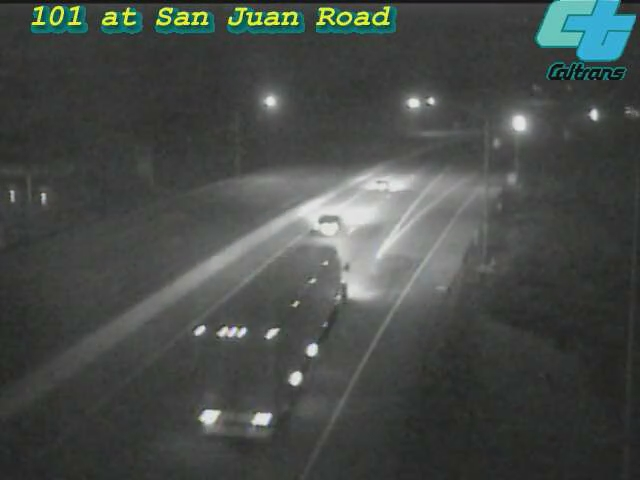vehicle: (342, 144, 422, 224), (290, 183, 370, 263), (255, 264, 335, 344), (497, 98, 547, 148), (570, 89, 620, 139)
